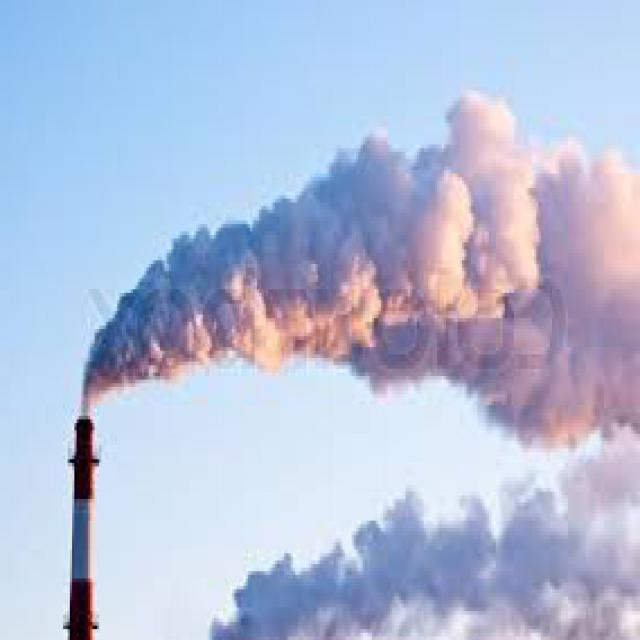Smoke: (75, 120, 640, 406)
